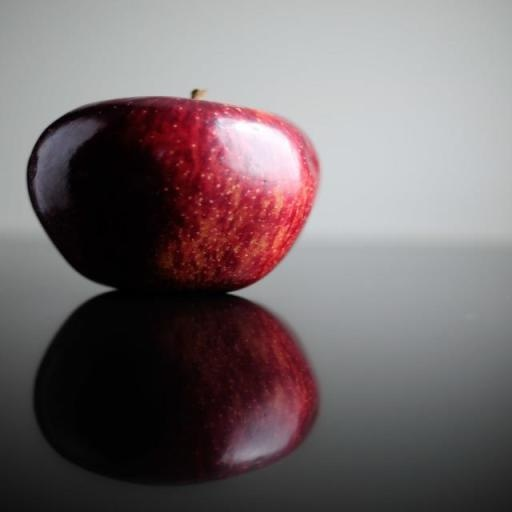fruit: (215, 196, 419, 512), (209, 73, 426, 315)
